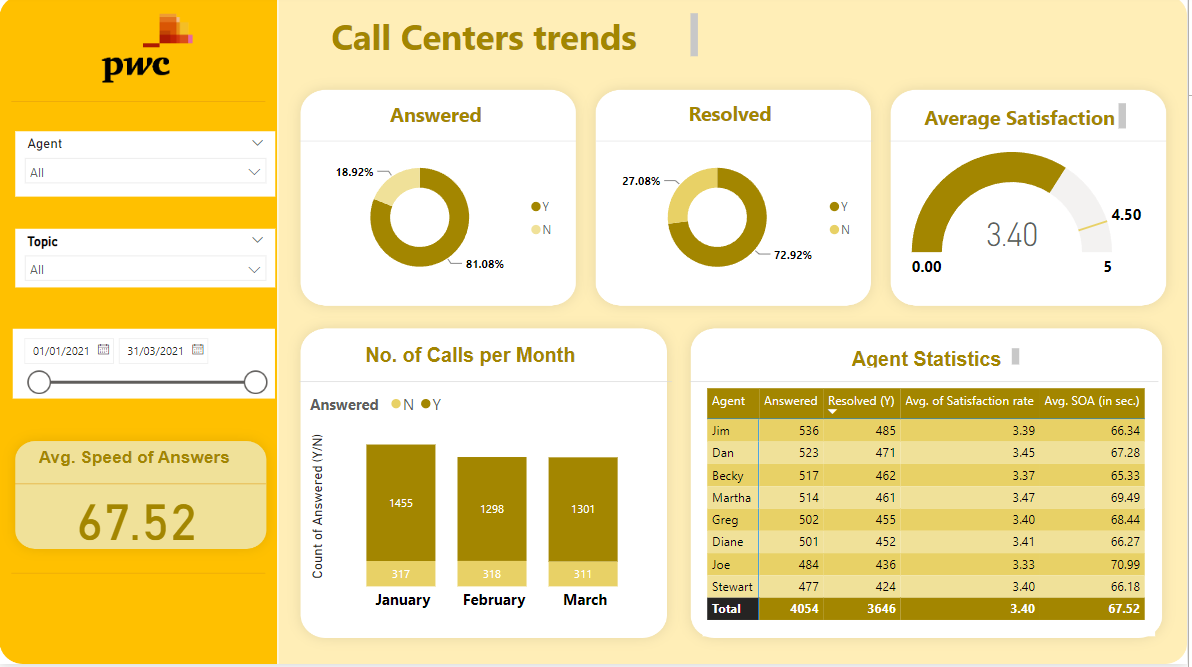

What the dashboard file says about the page in this screenshot:
{"tool":"powerbi","page":{"name":"Page 1","canvas":[1280,720],"ordinal":0},"visuals":[{"type":"slicer","fields":{"Values":["Sheet1.Agent"]},"box":[17.5,146.7,280,70],"z":0},{"type":"slicer","fields":{"Values":["Sheet1.Topic"]},"box":[17.5,251.7,280,63.3],"z":1000},{"type":"image","box":[63.3,14.8,192.5,84.8],"z":2000},{"type":"donutChart","fields":{"Category":["Sheet1.Answered (Y/N)"],"Y":["Sheet1.Answered (Y/N)"]},"box":[329.8,164.2,280,150.8],"z":3000},{"type":"donutChart","fields":{"Category":["Sheet1.Resolved"],"Y":["Sheet1.Resolved"]},"box":[648.9,164.2,282.7,150.8],"z":4000},{"type":"textbox","box":[397.1,109,146.7,43.1],"z":5000},{"type":"gauge","fields":{"Y":["Sheet1.Satisfaction rating"],"MaxValue":["Sheet1.Satisfaction rating"]},"box":[973.3,164.2,271.9,149.4],"z":7000},{"type":"textbox","box":[988.1,111.7,230.2,37.7],"z":8000},{"type":"card","fields":{"Values":["Sheet1.Speed of answer in seconds"]},"box":[41.7,529.1,212.7,63.3],"z":9000},{"type":"textbox","box":[37.7,482,239.6,37.7],"z":10000},{"type":"columnChart","fields":{"Y":["Sheet1.Answered (Y/N)"],"Category":["Sheet1.Date.Variation.Date Hierarchy.Month"],"Series":["Sheet1.Answered (Y/N)"]},"box":[329.8,418.7,385,254.4],"z":10001},{"type":"pivotTable","fields":{"Rows":["Sheet1.Agent"],"Values":["Sheet1.Answered","Sheet1.Resolved (Y)","Sheet1.Satisfaction rating","Sheet1.Speed of answer in seconds"]},"box":[757.9,418.7,487.3,271.9],"z":10002},{"type":"slicer","fields":{"Values":["Sheet1.Date"]},"box":[14.8,359.4,282.7,75.4],"z":10003},{"type":"textbox","box":[902,375.6,201.9,31],"z":10004},{"type":"textbox","box":[366.2,371.6,282.7,35],"z":10005},{"type":"textbox","box":[709.5,107.7,161.5,39],"z":10006},{"type":"textbox","box":[352.7,14.8,405.2,57.9],"z":10007}]}

Visuals, with their boxes in screenshot pixels (x1, y1, x2, y2), scaled from the page's 1280x720 canvas onto the 1192x667 screenshot:
slicer - Sheet1.Agent: (16, 136, 277, 201)
slicer - Sheet1.Topic: (16, 233, 277, 292)
image: (59, 14, 238, 92)
donutChart - Sheet1.Answered (Y/N) x Sheet1.Answered (Y/N): (307, 152, 568, 292)
donutChart - Sheet1.Resolved x Sheet1.Resolved: (604, 152, 868, 292)
textbox: (370, 101, 506, 141)
gauge - Sheet1.Satisfaction rating x Sheet1.Satisfaction rating: (906, 152, 1160, 291)
textbox: (920, 103, 1135, 138)
card - Sheet1.Speed of answer in seconds: (39, 490, 237, 549)
textbox: (35, 447, 258, 481)
columnChart - Sheet1.Answered (Y/N) x Sheet1.Date.Variation.Date Hierarchy.Month: (307, 388, 666, 624)
pivotTable - Sheet1.Agent x Sheet1.Answered: (706, 388, 1160, 640)
slicer - Sheet1.Date: (14, 333, 277, 403)
textbox: (840, 348, 1028, 377)
textbox: (341, 344, 604, 377)
textbox: (661, 100, 811, 136)
textbox: (328, 14, 706, 67)
